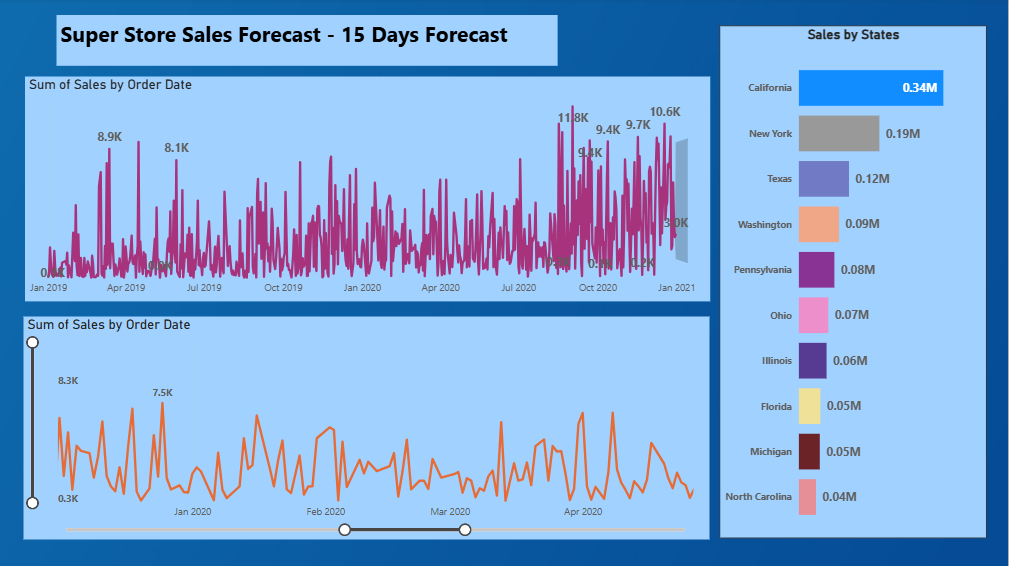

Layout of this report page (visuals, bound fields, positions):
{"tool":"powerbi","page":{"name":"Page 2","canvas":[1280,720],"ordinal":1},"visuals":[{"type":"lineChart","fields":{"Y":["Sum(SuperStore_Sales_Dataset.Sales)"],"Category":["SuperStore_Sales_Dataset.Order Date"]},"box":[39.7,402.5,863.6,279.7],"z":0},{"type":"lineChart","fields":{"Y":["Sum(SuperStore_Sales_Dataset.Sales)"],"Category":["SuperStore_Sales_Dataset.Order Date"]},"box":[41.6,100.2,863.6,283.5],"z":1000},{"type":"barChart","title":"Sales by States","fields":{"Category":["SuperStore_Sales_Dataset.State"],"Y":["Sum(SuperStore_Sales_Dataset.Sales)"]},"box":[916.5,35.9,336.4,646.3],"z":2000},{"type":"textbox","box":[81.3,22.7,631.2,64.3],"z":3000}]}

Visuals, with their boxes in screenshot pixels (x1, y1, x2, y2), scaled from the page's 1280x720 canvas onto the 1009x566 screenshot:
lineChart - Sum(SuperStore_Sales_Dataset.Sales) x SuperStore_Sales_Dataset.Order Date: (left=31, top=316, right=712, bottom=536)
lineChart - Sum(SuperStore_Sales_Dataset.Sales) x SuperStore_Sales_Dataset.Order Date: (left=33, top=79, right=714, bottom=302)
"Sales by States" barChart: (left=722, top=28, right=988, bottom=536)
textbox: (left=64, top=18, right=562, bottom=68)
